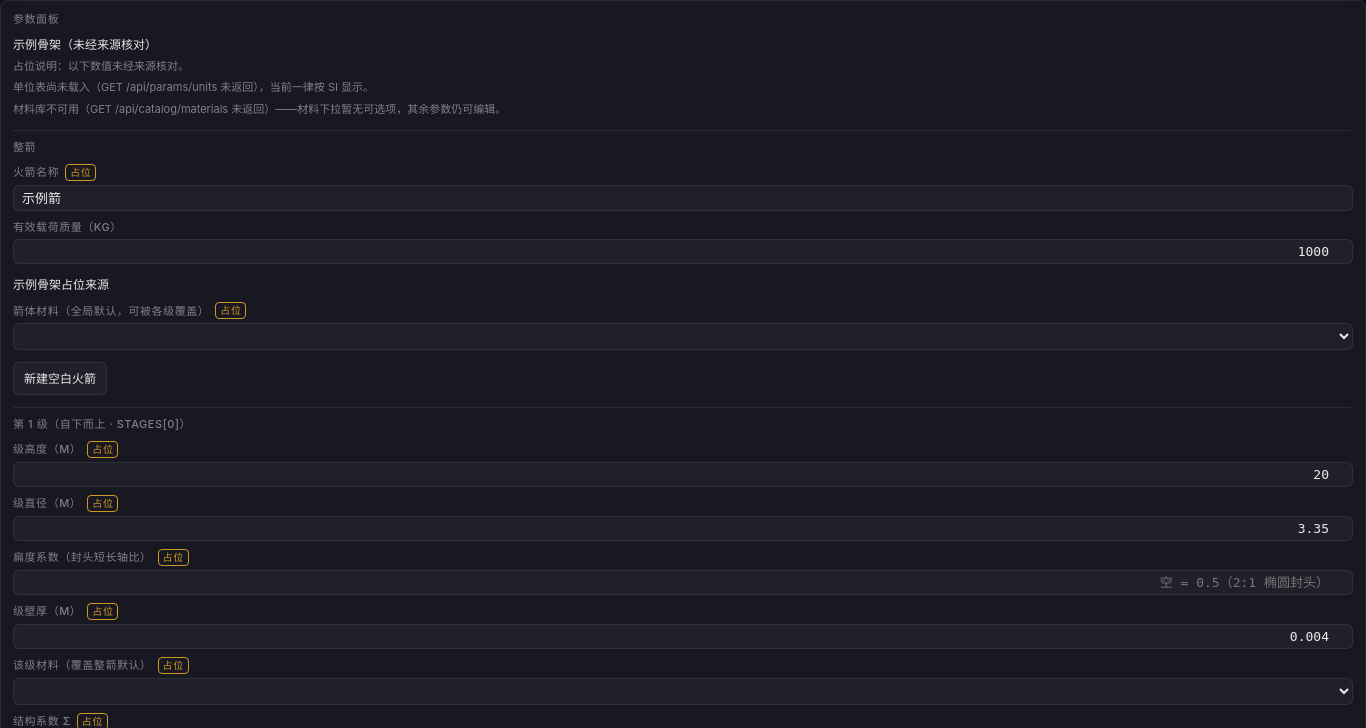
Test case: OI-39 精校模板置顶（与 GCAT 候选同列，通路不混） › 模板命中排在 GCAT 候选之前并标「精校」；点击走模板载入通路
The width and height of the screenshot is (1366, 728).
Replace the text in the field labelled "火箭名称 占位" with "长三乙" at coordinates (683, 198), box 13,185 -> 1353,211
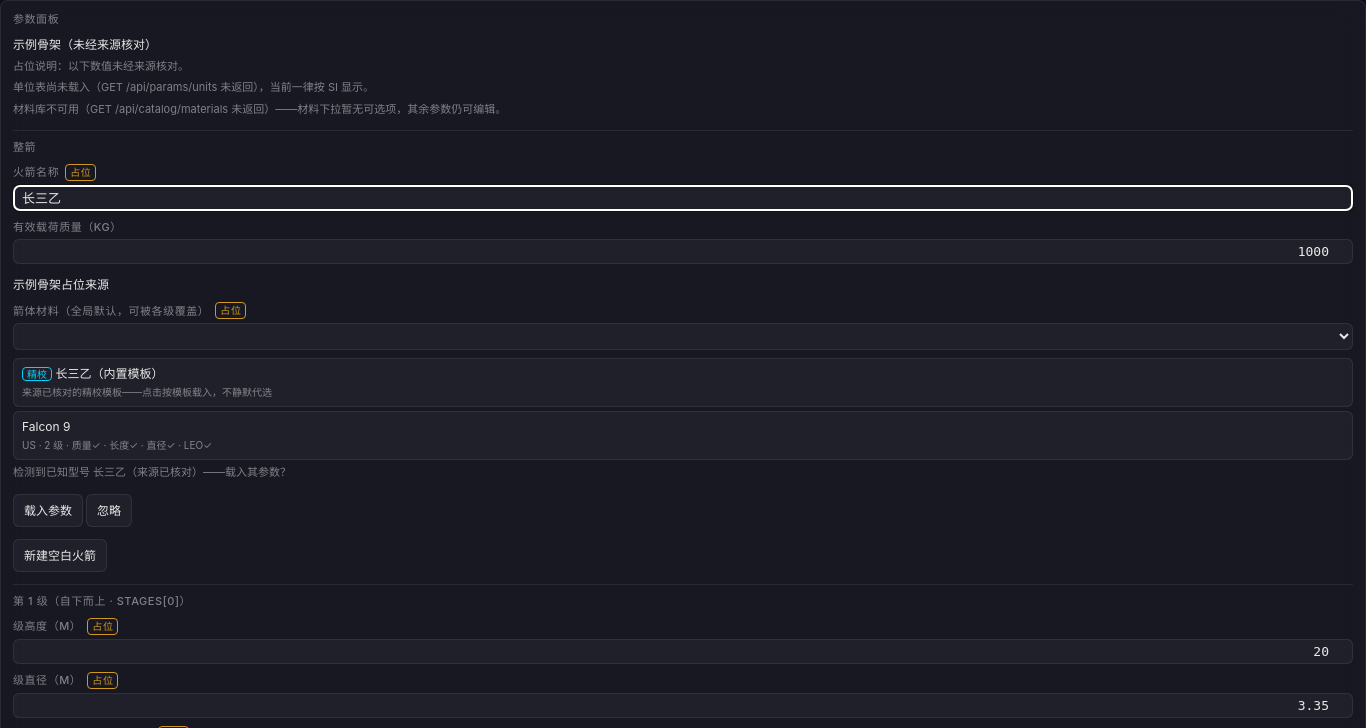
Check: the text "检测到已知型号 长三乙（来源已核对）——载入其参数？" is shown, box 13,465 -> 291,479
Check: the button with aria-label "载入 GCAT 记录 Falcon 9" is shown, box 13,411 -> 1353,460
// 点「精校」→ 走模板载入（/api/templates/cz-3b），GCAT record 端点不被调用
Click the button "精校 长三乙（内置模板） 来源已核对的精校模板——点击按模板载入，不静默代选" at coordinates (108, 374), box 13,358 -> 1353,407
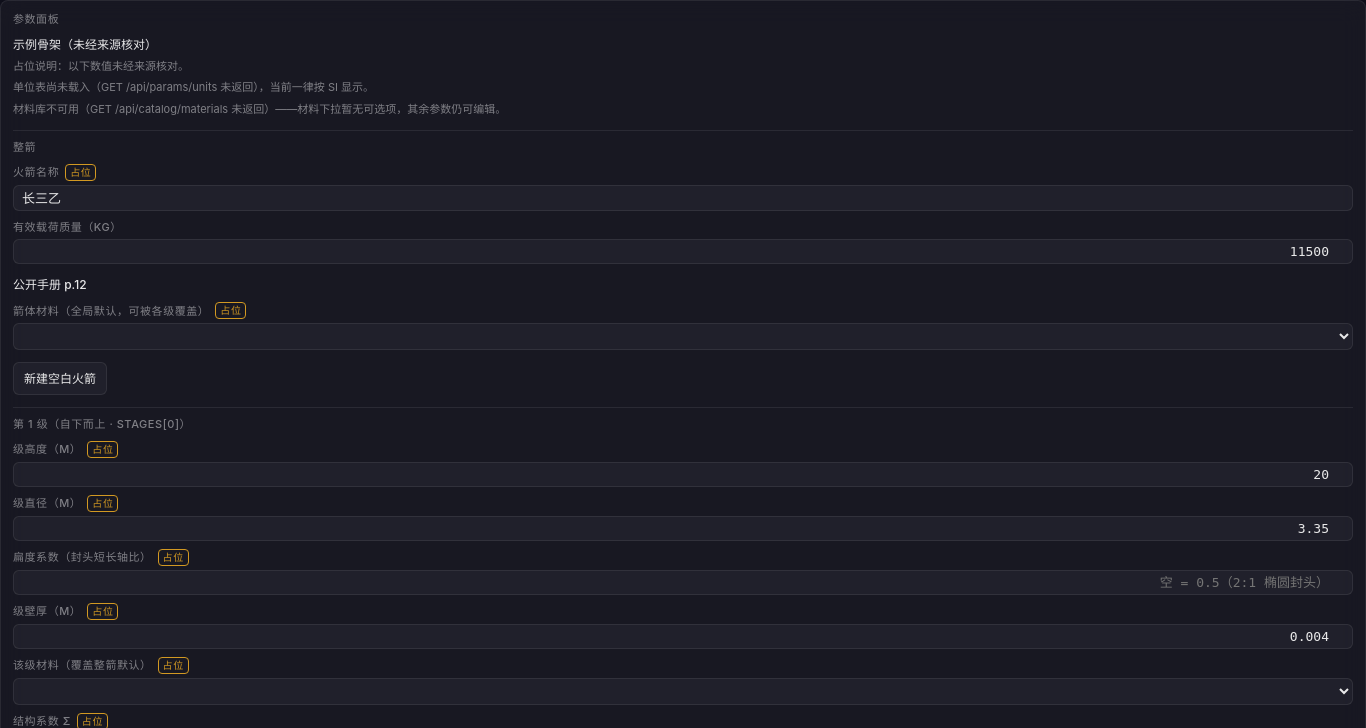
Check: the text "公开手册 p.12" is shown, box 13,277 -> 87,292
